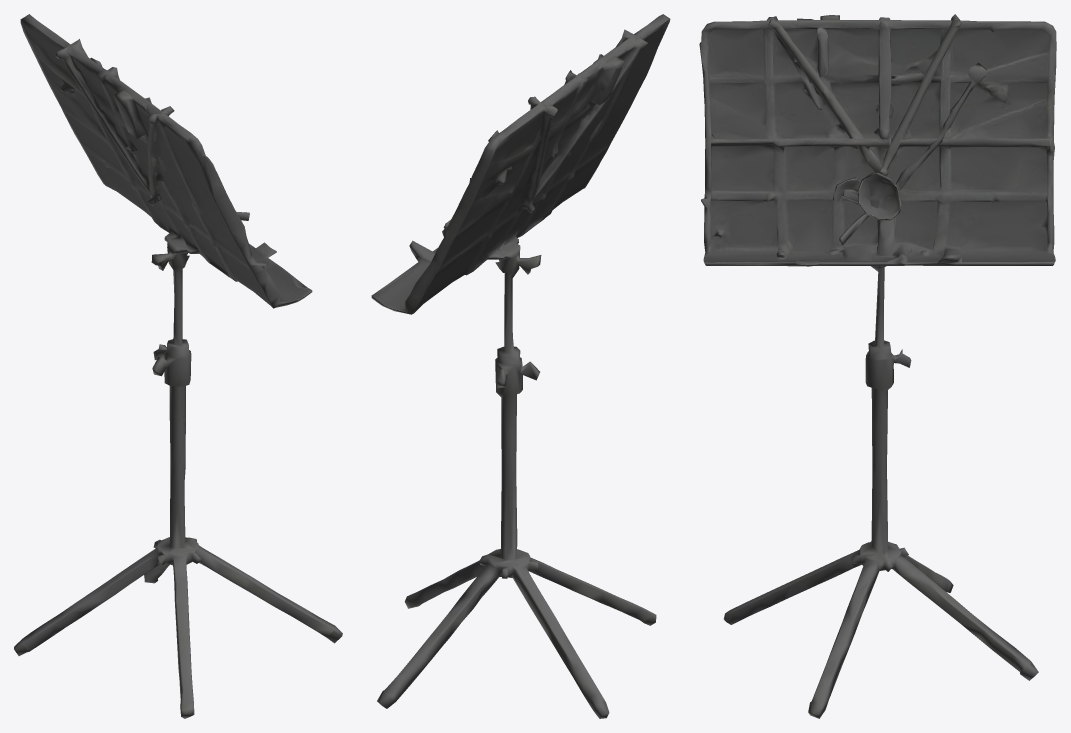
File: musicstand-v1.glb
The picture shows the model from 3 angles, left to right: view 1: azimuth 30°, elevation 25°; view 2: azimuth 150°, elevation 25°; view 3: azimuth 270°, elevation 25°; orthographic projection. The views are drawn at different scales.
Visible parts, largest first — view 1: prop__musicstand; view 2: prop__musicstand; view 3: prop__musicstand.
Part boxes in pixels (x1=…): prop__musicstand: x1=14, y1=14, x2=342, y2=718; prop__musicstand: x1=371, y1=14, x2=670, y2=718; prop__musicstand: x1=699, y1=14, x2=1056, y2=718.
Size of the model in its own units: 0.5988 by 1.3 by 0.6933.
Materials: 1 (1 with a texture image).
